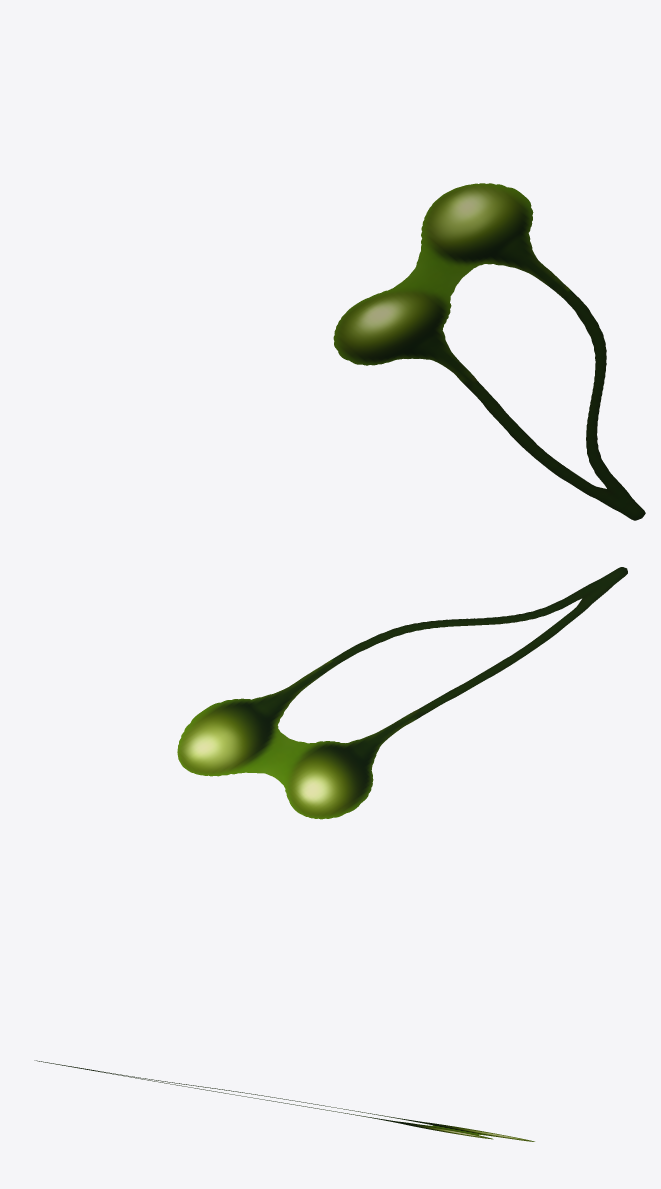
Rendered from MEP_Lumie_04.fbx.
3 views of the same model, one above another, from view 1: azimuth 30°, elevation 25°; view 2: azimuth 150°, elevation 25°; view 3: azimuth 270°, elevation 25° (orthographic). The views are drawn at different scales.
Visible parts, largest first — view 1: MEP_Lumie_04; view 2: MEP_Lumie_04; view 3: MEP_Lumie_04.
Boxes of the visible parts, x1=… form: MEP_Lumie_04: x1=333, y1=183, x2=645, y2=520; MEP_Lumie_04: x1=177, y1=567, x2=627, y2=819; MEP_Lumie_04: x1=34, y1=1060, x2=534, y2=1141.
Bounding box in the file's own units: 0.74 × 0.4222 × 1.2.
